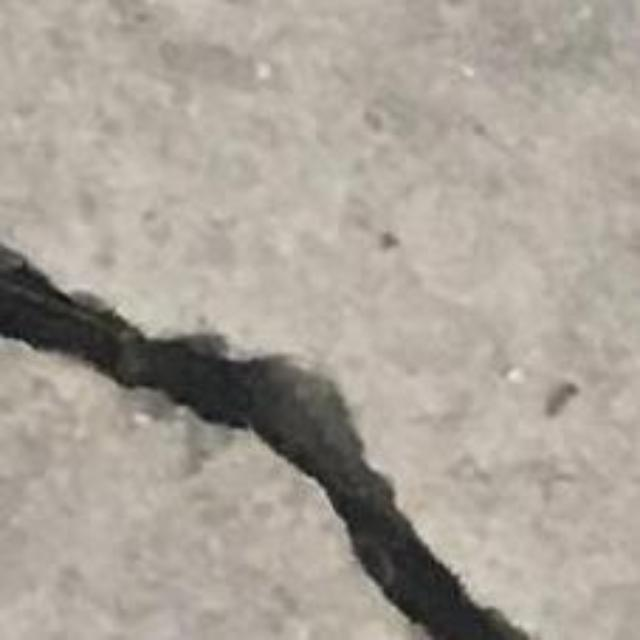crack: (0, 246, 530, 639)
